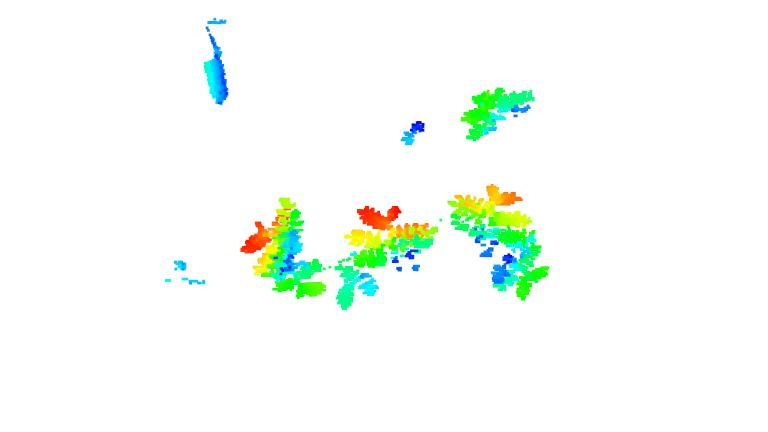chickpea: (448, 180, 553, 301), (333, 201, 440, 311), (242, 198, 333, 300), (459, 84, 541, 148), (400, 117, 428, 148)
